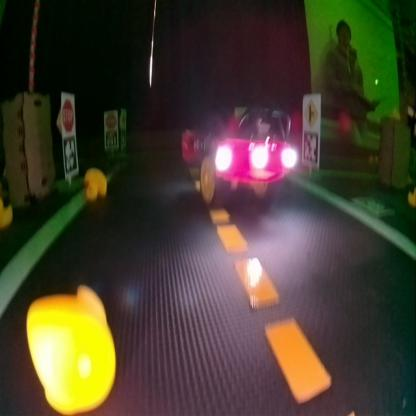Duckie: (28, 287, 114, 401), (85, 168, 106, 198)
Duckiebot: (180, 110, 294, 198)
Intersection sign: (303, 92, 320, 130)
QR code: (63, 138, 78, 172), (302, 134, 317, 164), (106, 130, 117, 146)
Stop sign: (62, 98, 73, 131), (104, 112, 116, 126)
